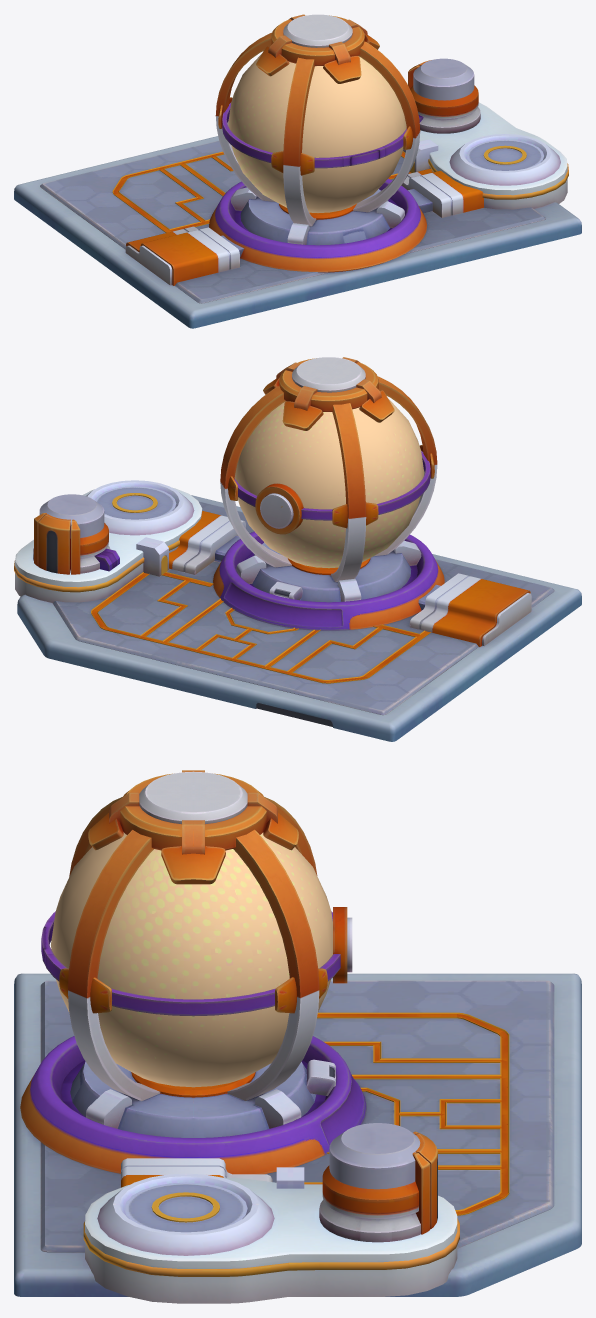
Rendered from pref_sm_choujiangjiemian_mx01_lv3.fbx.
3 views of the same model, one above another, from view 1: azimuth 30°, elevation 25°; view 2: azimuth 150°, elevation 25°; view 3: azimuth 270°, elevation 25° (orthographic). The views are drawn at different scales.
Parts seen in each view (by area): view 1: sm_choujiangjiemian_mx01_lv3, sm_choujiangjiemian_mx01b_lv3, sm_choujiangjiemian_mx04_lv3, sm_choujiangjiemian_mx01c_lv3; view 2: sm_choujiangjiemian_mx01_lv3, sm_choujiangjiemian_mx04_lv3, sm_choujiangjiemian_mx01b_lv3, sm_choujiangjiemian_mx01c_lv3; view 3: sm_choujiangjiemian_mx01_lv3, sm_choujiangjiemian_mx04_lv3, sm_choujiangjiemian_mx01b_lv3, sm_choujiangjiemian_mx01c_lv3.
Part boxes in pixels (left/top/right/bottom): sm_choujiangjiemian_mx01_lv3: left=14, top=14, right=581, bottom=328; sm_choujiangjiemian_mx01b_lv3: left=228, top=54, right=406, bottom=212; sm_choujiangjiemian_mx04_lv3: left=40, top=140, right=545, bottom=303; sm_choujiangjiemian_mx01c_lv3: left=112, top=151, right=411, bottom=232; sm_choujiangjiemian_mx01_lv3: left=14, top=357, right=581, bottom=741; sm_choujiangjiemian_mx04_lv3: left=52, top=501, right=554, bottom=715; sm_choujiangjiemian_mx01b_lv3: left=234, top=399, right=424, bottom=568; sm_choujiangjiemian_mx01c_lv3: left=91, top=572, right=431, bottom=683; sm_choujiangjiemian_mx01_lv3: left=14, top=770, right=581, bottom=1303; sm_choujiangjiemian_mx04_lv3: left=40, top=980, right=554, bottom=1252; sm_choujiangjiemian_mx01b_lv3: left=51, top=832, right=332, bottom=1087; sm_choujiangjiemian_mx01c_lv3: left=304, top=1012, right=509, bottom=1215.
Size of the model in its own units: 5.25 by 2.56 by 3.85.
